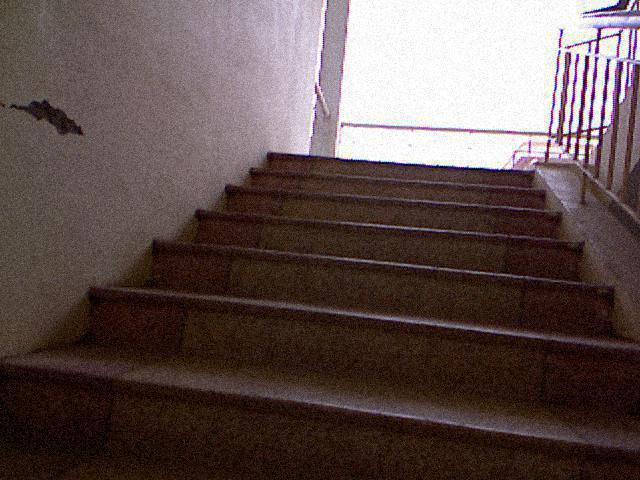Escaleras: (0, 161, 639, 478)
